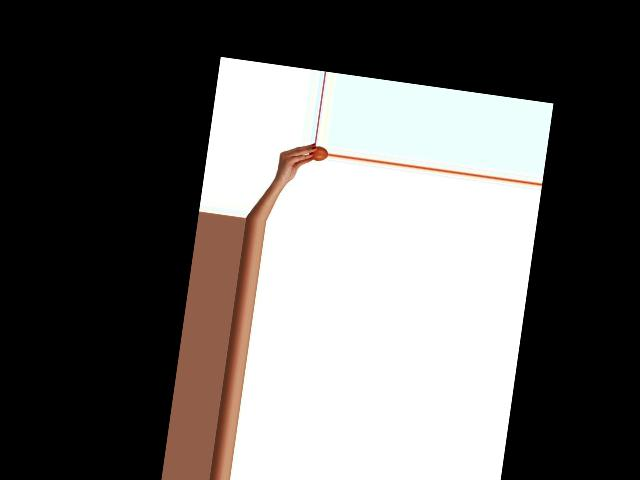egg: (308, 145, 328, 162)
